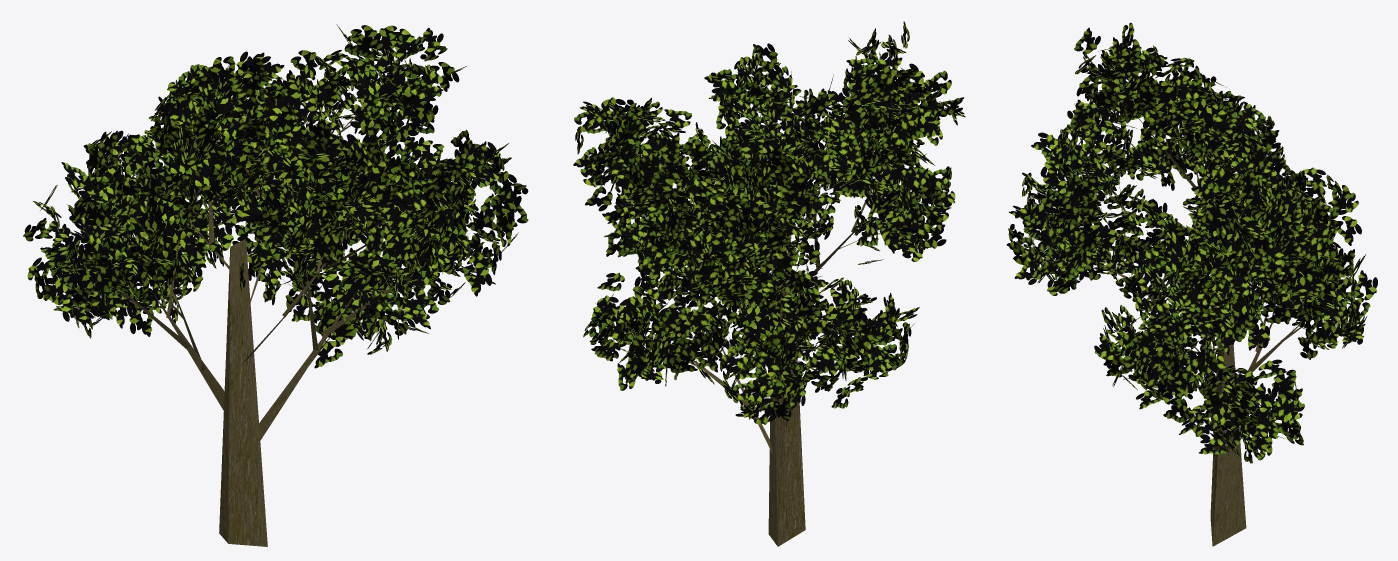
The model's file is oak_broadleaf_v02_LOD2.fbx.
3 renders of one model, left to right at view 1: azimuth 30°, elevation 25°; view 2: azimuth 150°, elevation 25°; view 3: azimuth 270°, elevation 25°, orthographic. The views are drawn at different scales.
Parts seen in each view (by area): view 1: oak_broadleaf_v02_LOD2; view 2: oak_broadleaf_v02_LOD2; view 3: oak_broadleaf_v02_LOD2.
Part boxes in pixels (<box>): oak_broadleaf_v02_LOD2: <box>23,24,528,546</box>; oak_broadleaf_v02_LOD2: <box>573,21,965,546</box>; oak_broadleaf_v02_LOD2: <box>1006,22,1377,546</box>.
Size of the model in its own units: 1836 by 1573 by 2222.
Materials: 2 (2 with a texture image).
